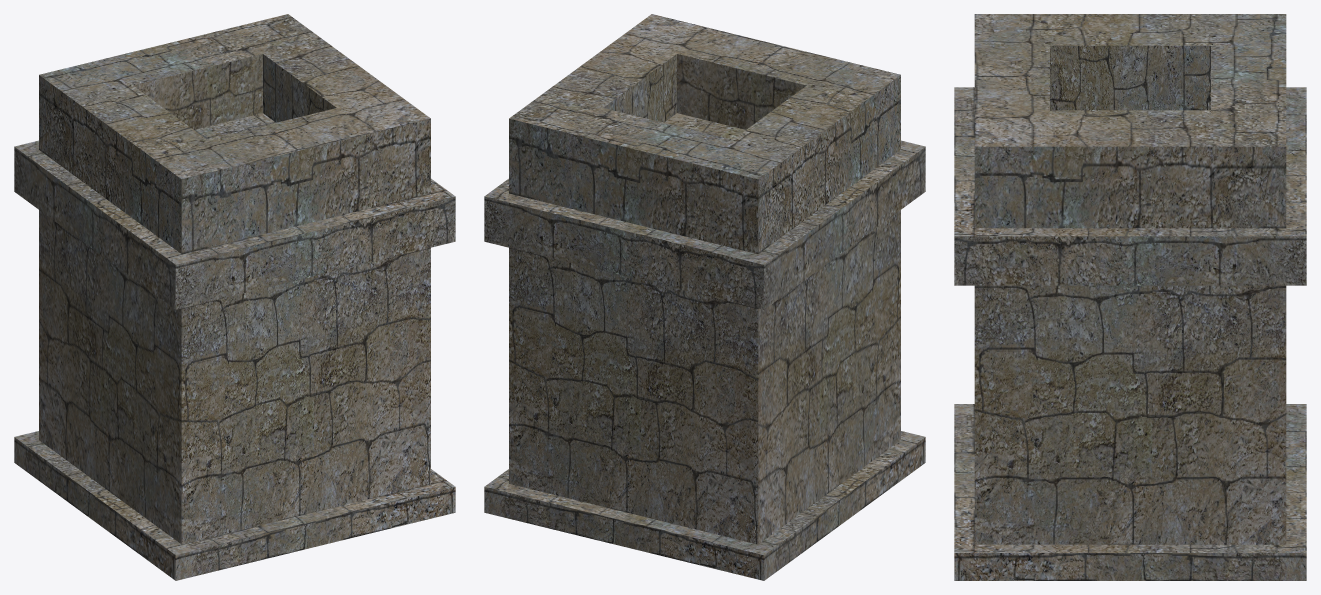
Rendered from oShape.FBX.
3 renders of one model, left to right at view 1: azimuth 30°, elevation 25°; view 2: azimuth 150°, elevation 25°; view 3: azimuth 270°, elevation 25°, orthographic. The views are drawn at different scales.
Visible parts, largest first — view 1: Claimed106; view 2: Claimed106; view 3: Claimed106.
Boxes of the visible parts, bbox=[...] form: Claimed106: bbox=[14, 14, 455, 580]; Claimed106: bbox=[484, 14, 925, 580]; Claimed106: bbox=[954, 14, 1306, 580].
Bounding box in the file's own units: 100 × 133 × 100.
